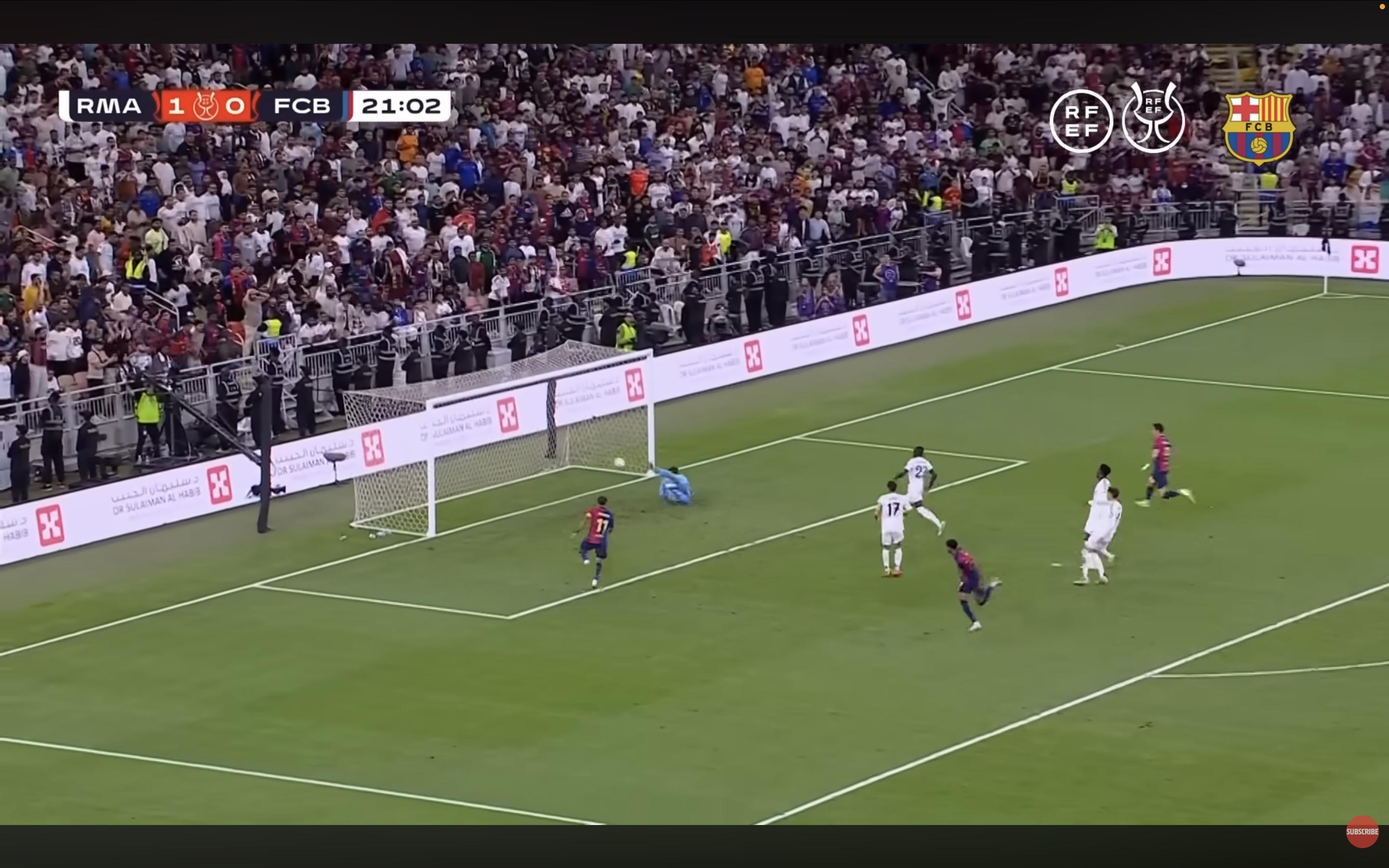ball: (613, 457, 626, 469)
goalkeeper: (653, 467, 692, 505)
player: (1074, 465, 1122, 583), (946, 539, 1001, 631), (1137, 423, 1194, 506), (895, 446, 945, 535), (573, 496, 613, 588), (874, 481, 910, 576)
